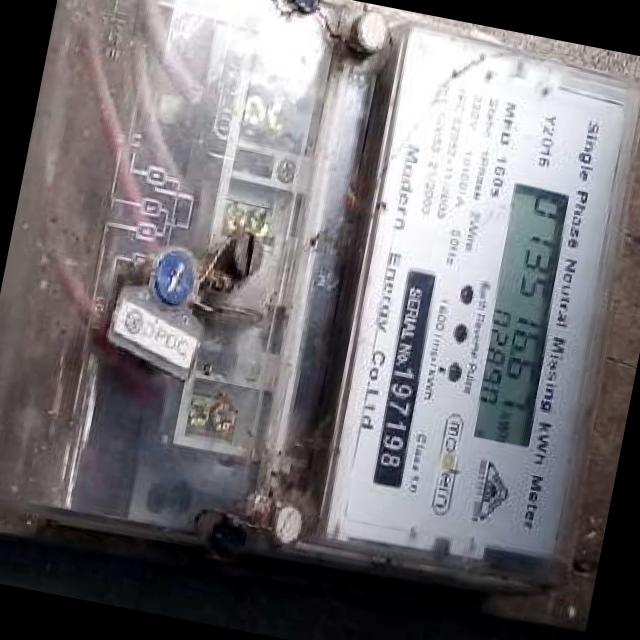LCD: (459, 170, 583, 458)
